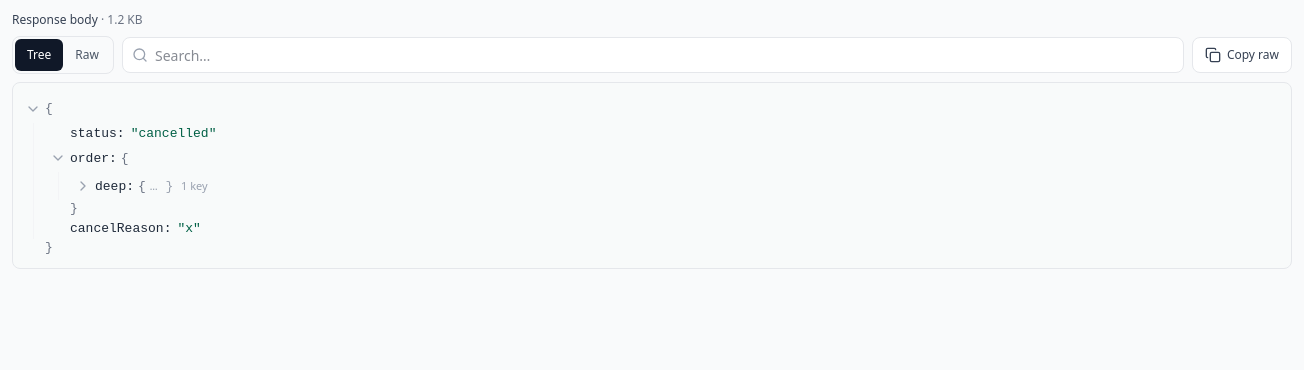
Test: JsonViewer › counts search matches across keys and values, opening collapsed branches, and steps through them
The image size is (1304, 370).
# `deep.deeper` is below the default open depth, so its match is only visible while searching.
Type "cancel" into the search field at (653, 55), box [122, 37, 1184, 73]
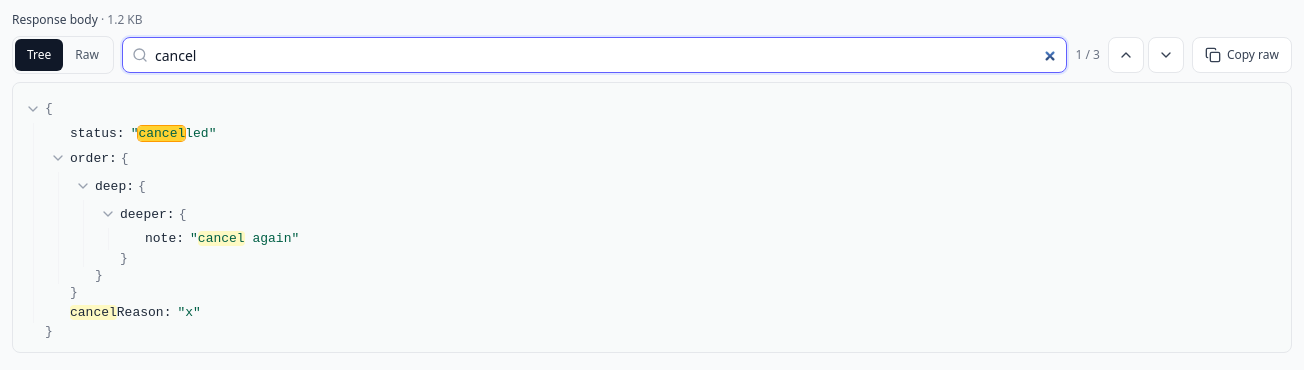
Result: the text "1 / 3" is shown at [1076, 46, 1100, 63]
Result: the text "again" is shown at [245, 231, 292, 246]
Click the button named "Next match" at (1166, 55), box [1148, 37, 1184, 73]
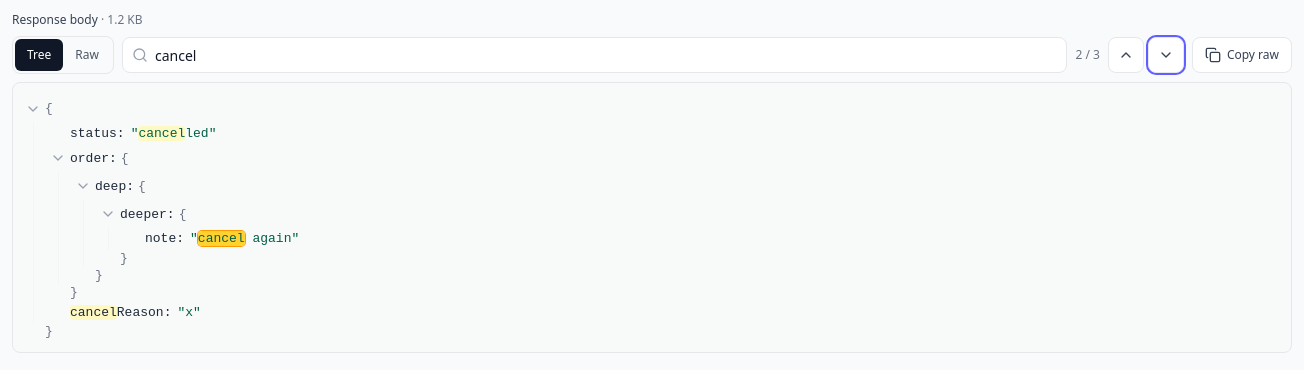
Result: the text "2 / 3" is shown at [1076, 46, 1100, 63]
Click the button named "Previous match" at (1126, 55), box [1108, 37, 1144, 73]
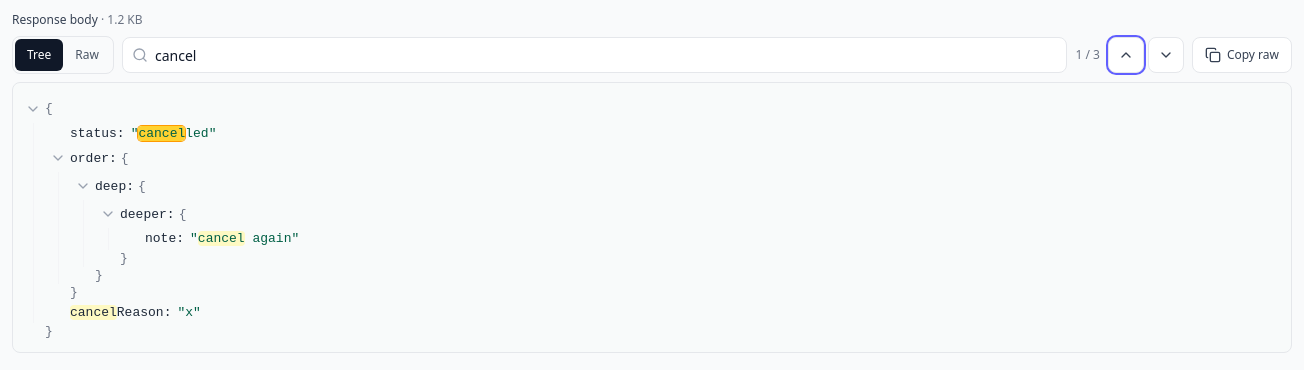
Click the button named "Previous match" at (1126, 55), box [1108, 37, 1144, 73]
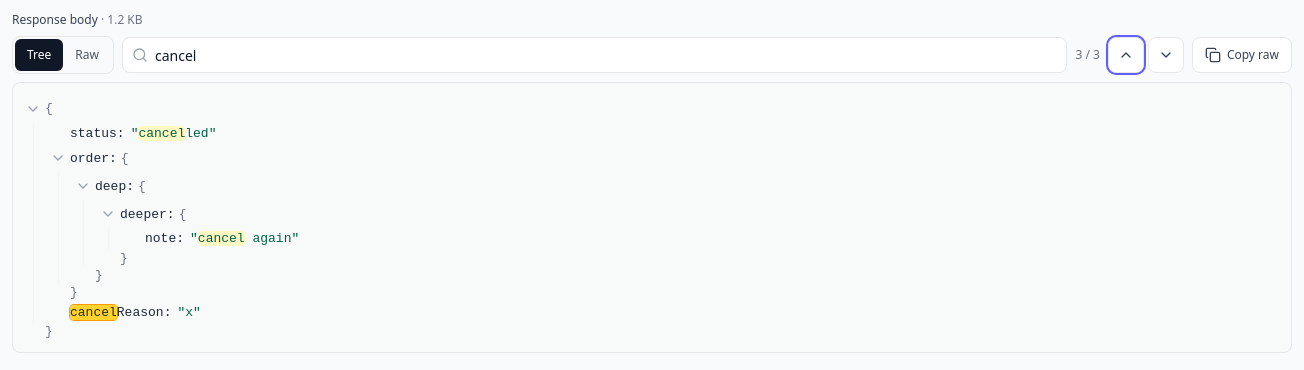
Result: the text "3 / 3" is shown at [1076, 46, 1100, 63]
